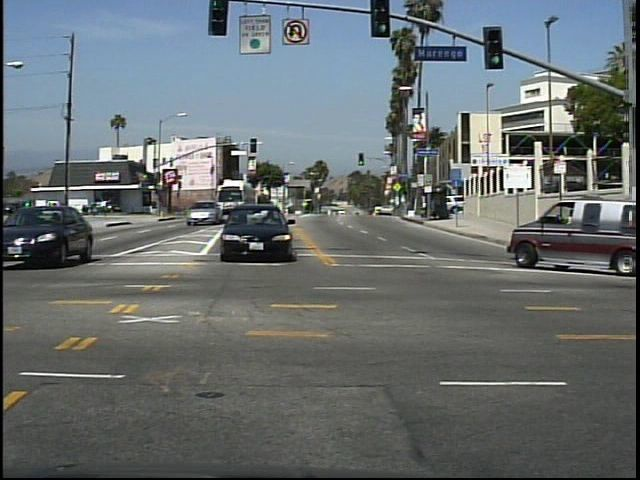person: (23, 194, 40, 223)
